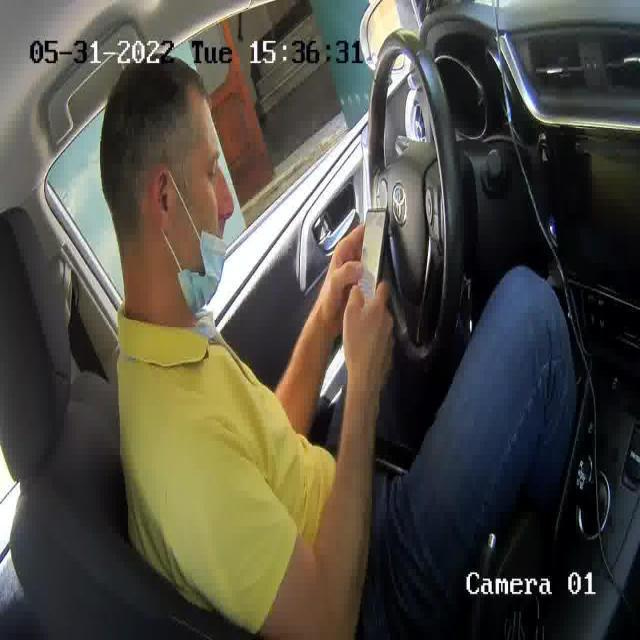Eye-Close: (204, 166, 222, 181)
Inattentive: (95, 56, 240, 309)
